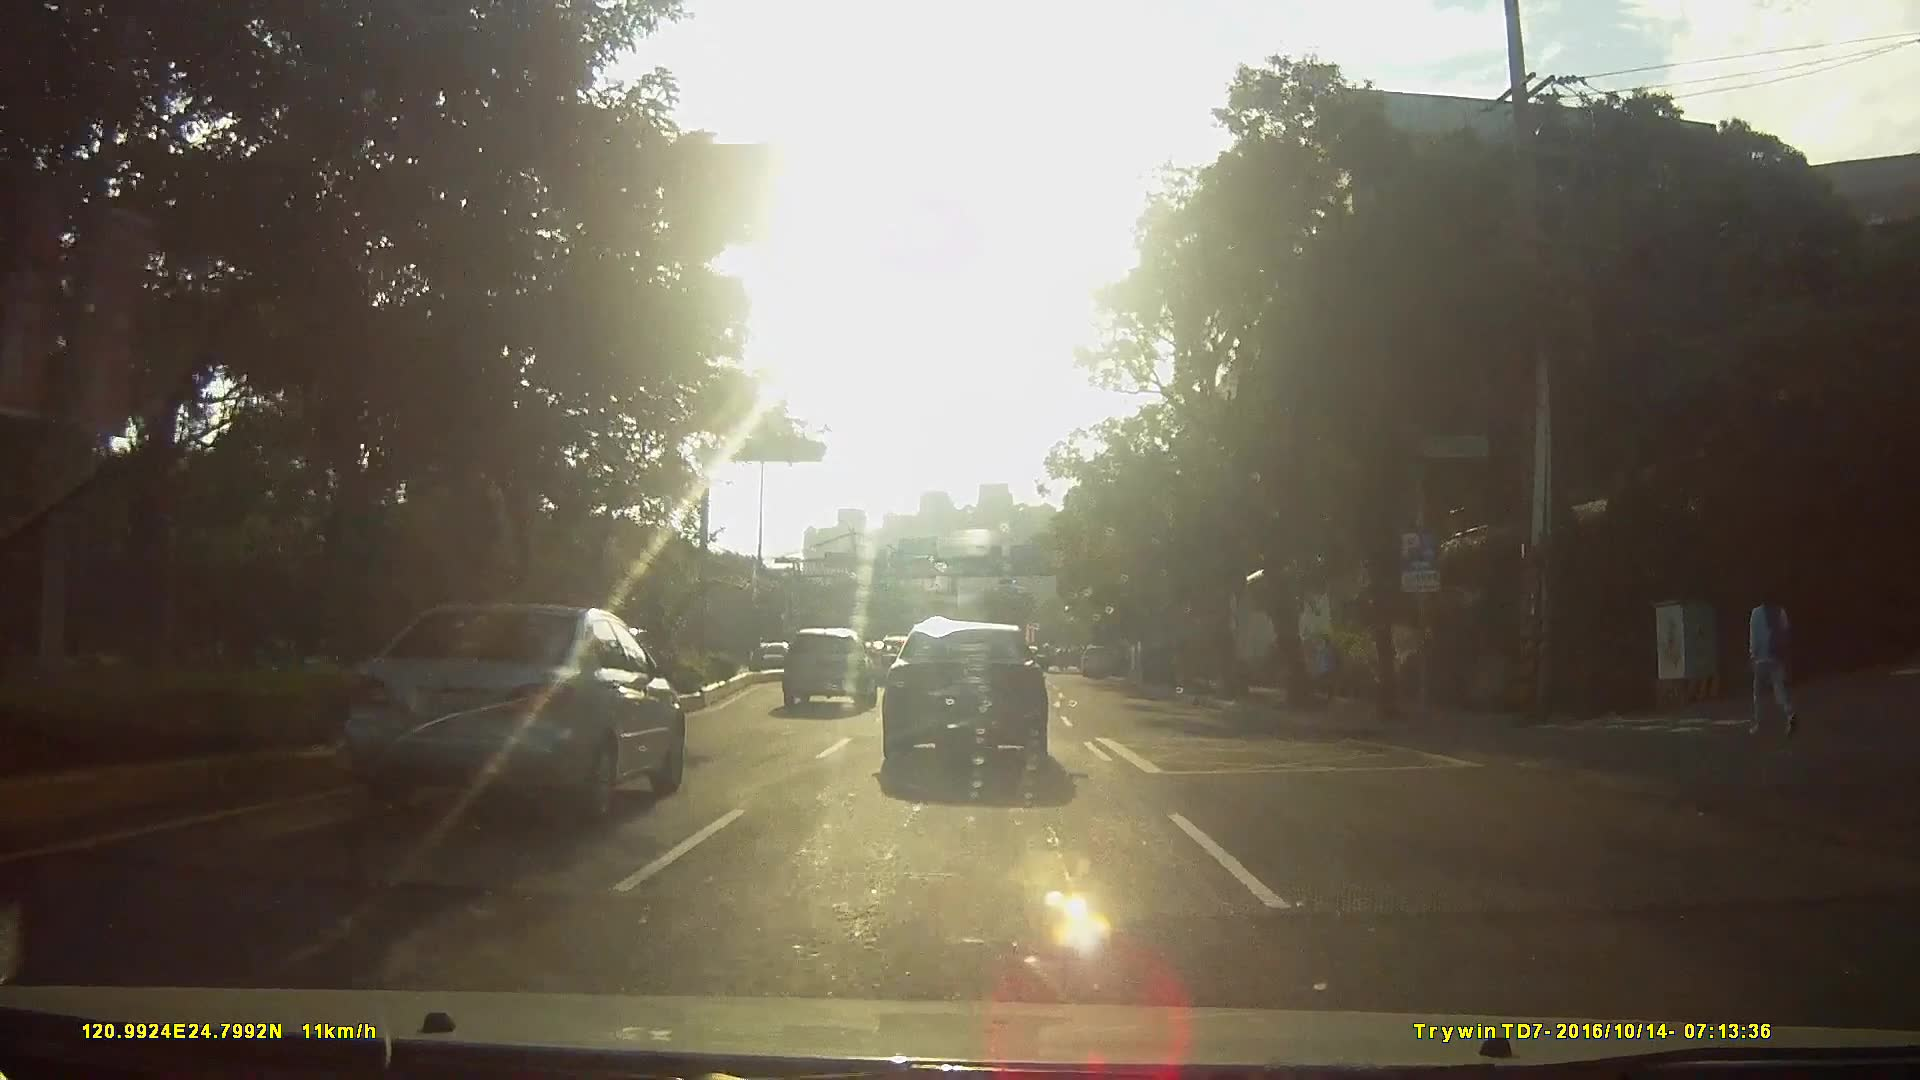pedestrian: (1742, 573, 1806, 741)
vehicle: (346, 600, 684, 816), (871, 618, 1063, 778), (777, 621, 876, 705), (735, 634, 783, 668), (1075, 640, 1111, 675)
